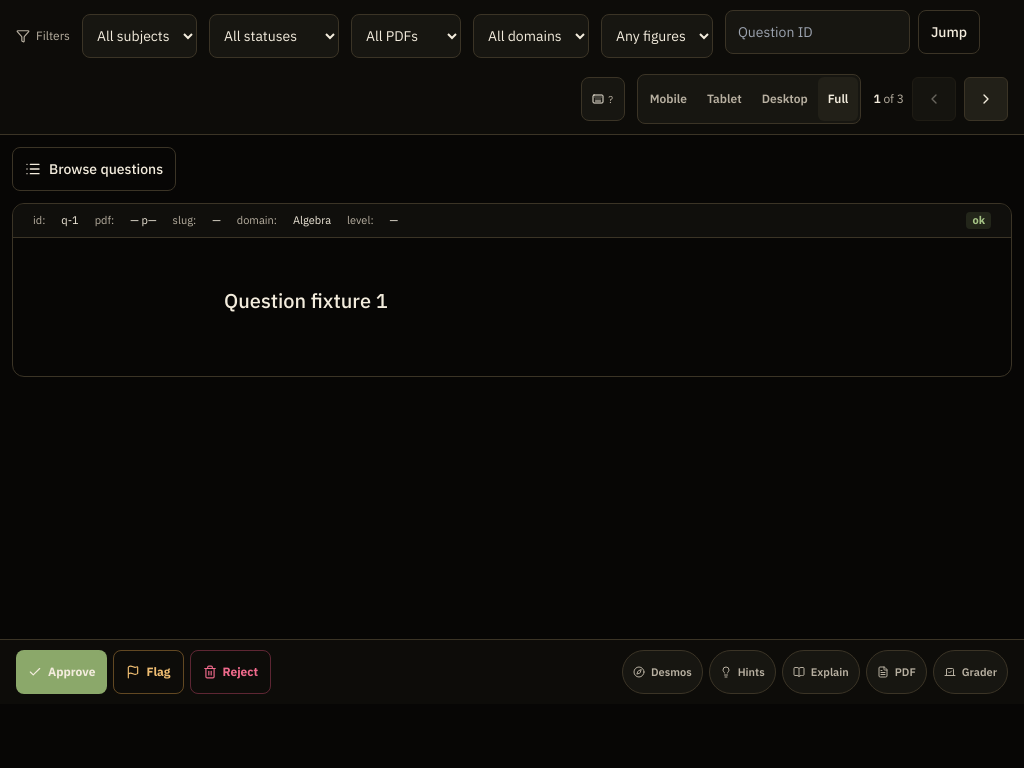
it: full preview selected-question navigation › advances repeatedly with the keyboard and uses the current filtered selection
The width and height of the screenshot is (1024, 768).
Check: the heading "Question fixture 1" is shown, box [224,286,388,314]
Press ArrowRight
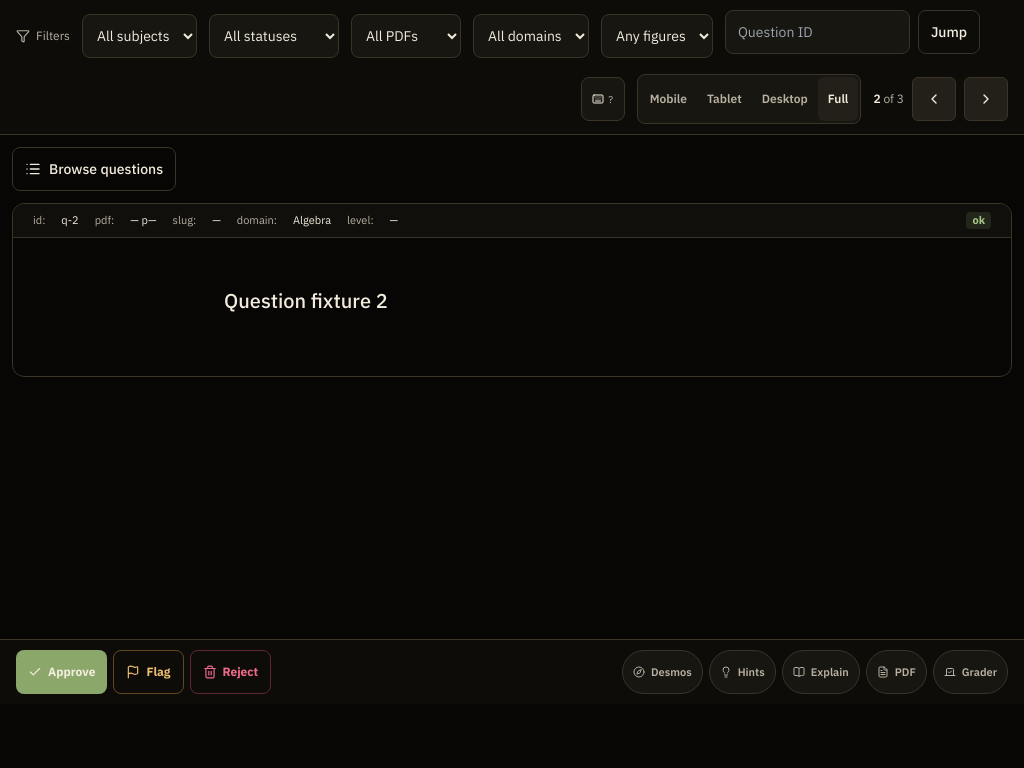
Check: the heading "Question fixture 2" is shown, box [224,286,388,314]
Press ArrowRight
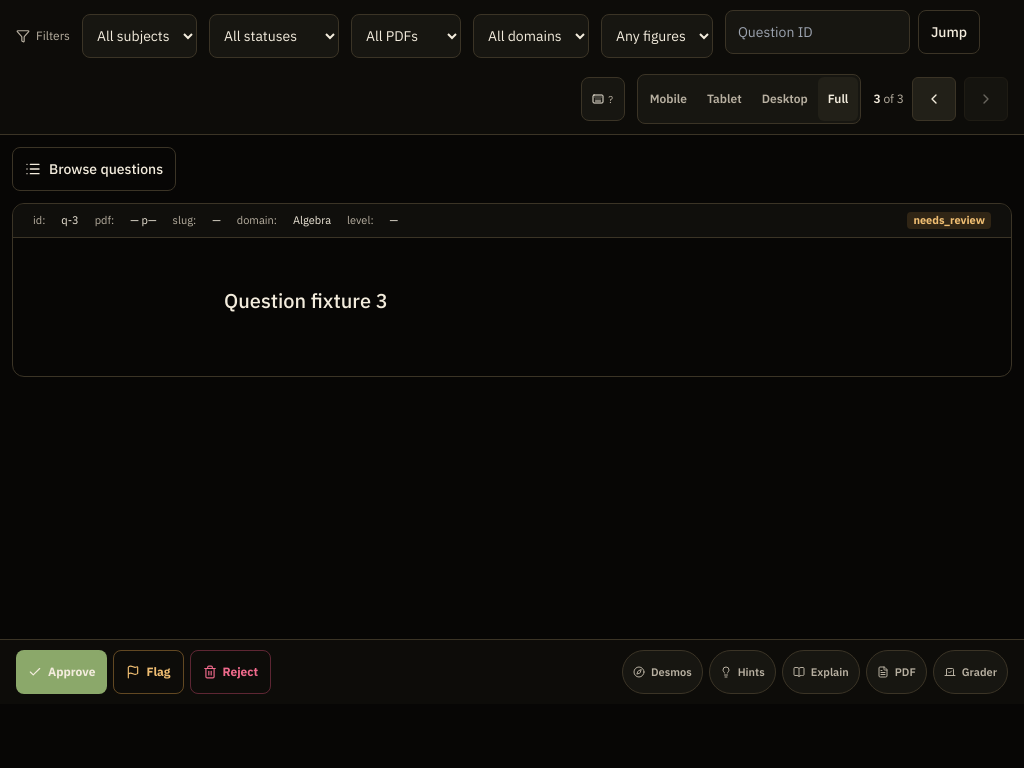
Check: the heading "Question fixture 3" is shown, box [224,286,388,314]
Press ArrowLeft
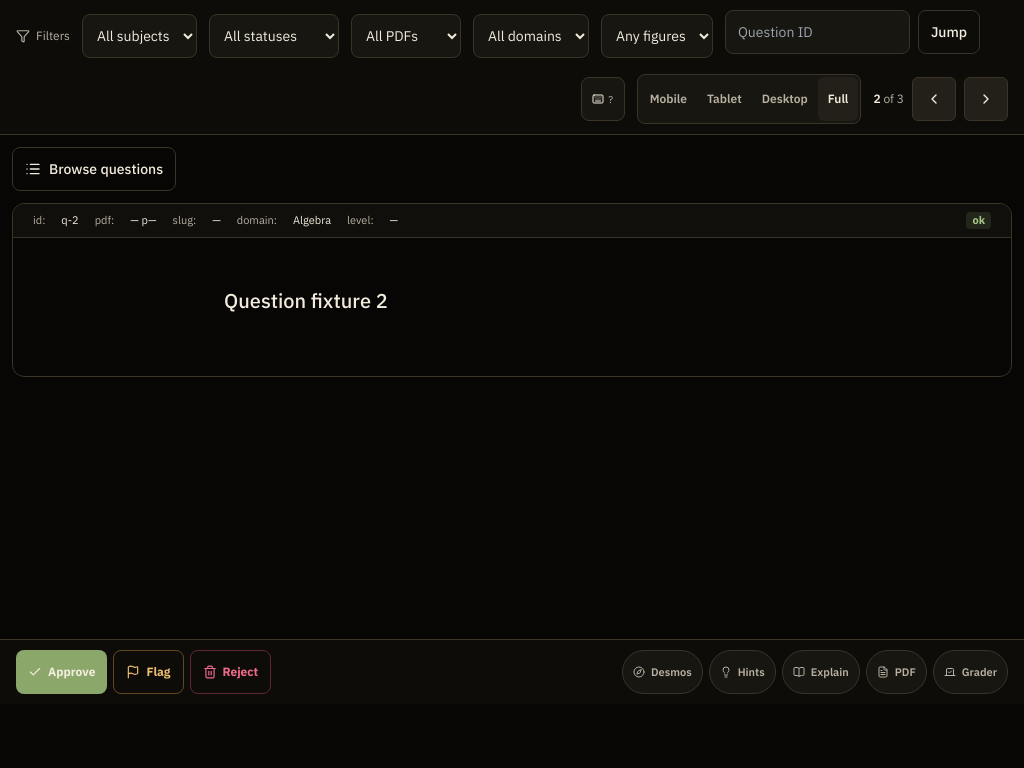
Check: the heading "Question fixture 2" is shown, box [224,286,388,314]
Select "needs_review" in the dropdown named "Question status": (274, 36) [209,14,339,58]
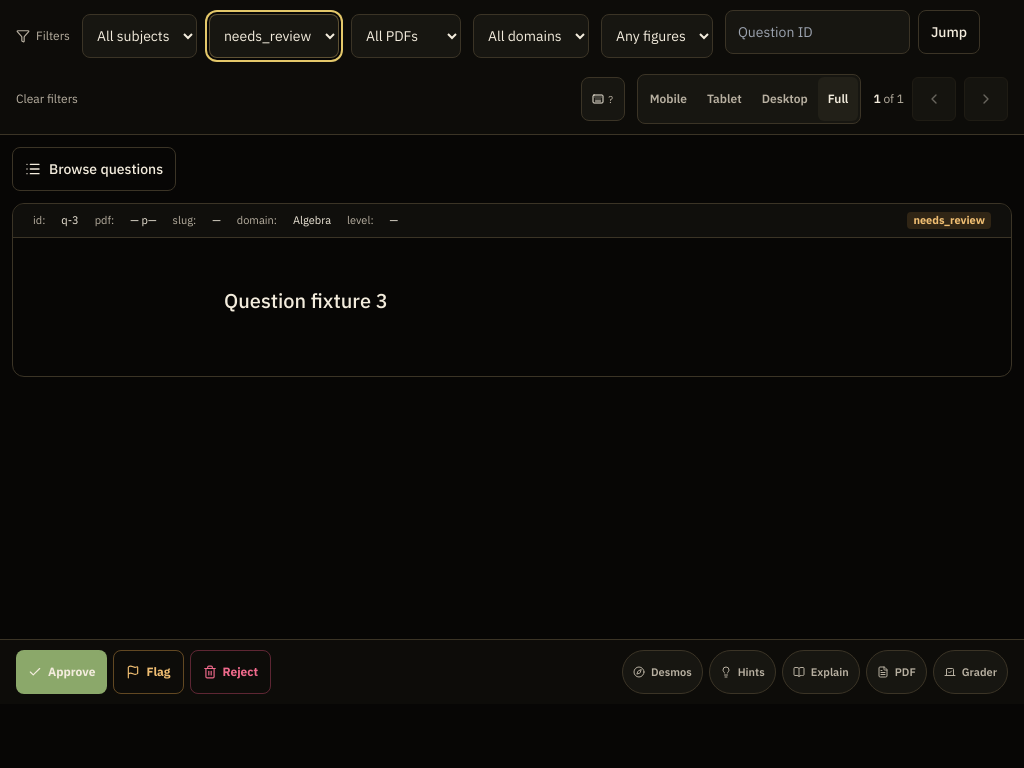
Check: the button named "Next question" is disabled, box [964,77,1008,121]
Check: the heading "Question fixture 3" is shown, box [224,286,388,314]
In the field named "Jump to question ID": (817, 32) [725,10,910,54], type "q-1"
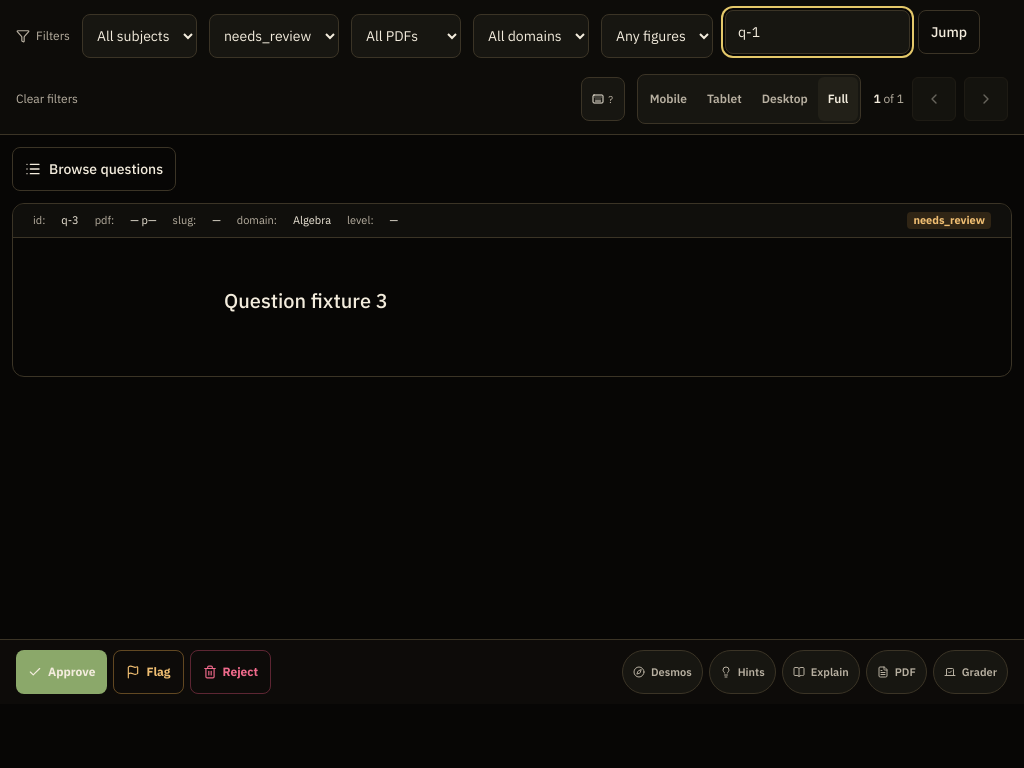
Click the button "Jump": (949, 32) [918,10,980,54]
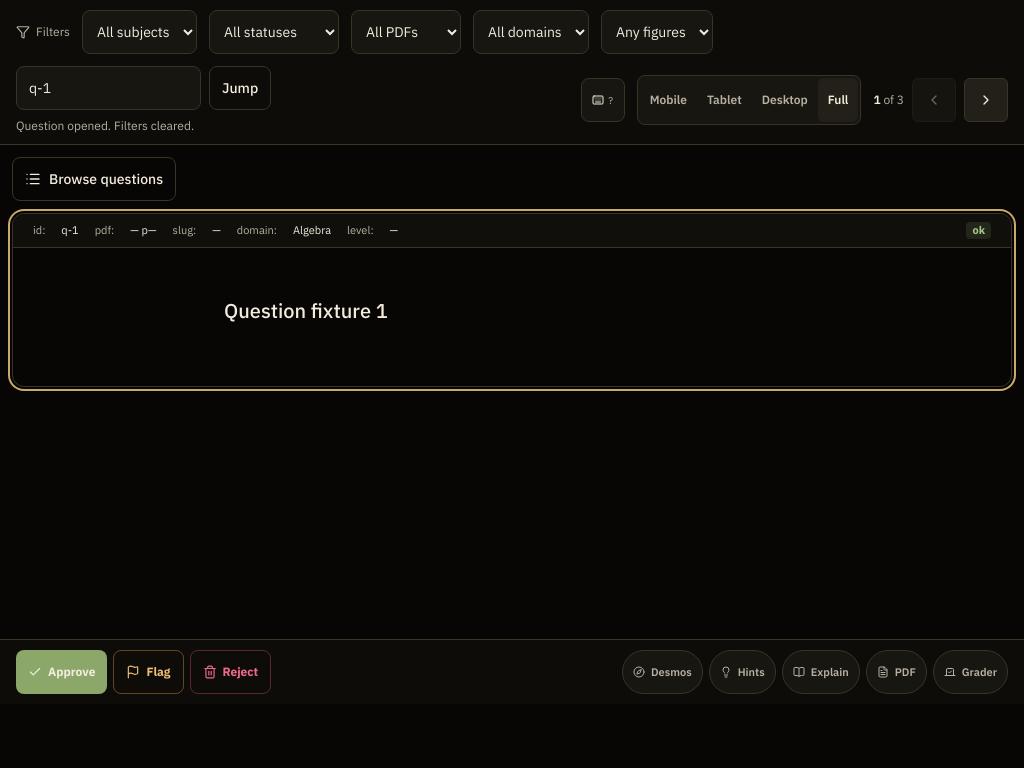
Check: the heading "Question fixture 1" is shown, box [224,296,388,324]
